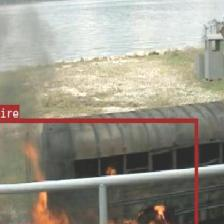fire: (0, 118, 198, 224)
